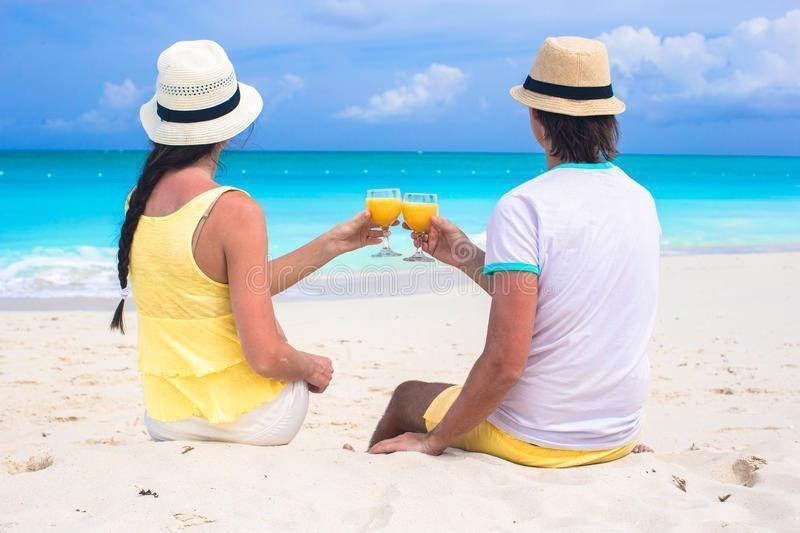glass-wine: (363, 186, 403, 259), (401, 193, 440, 261)
